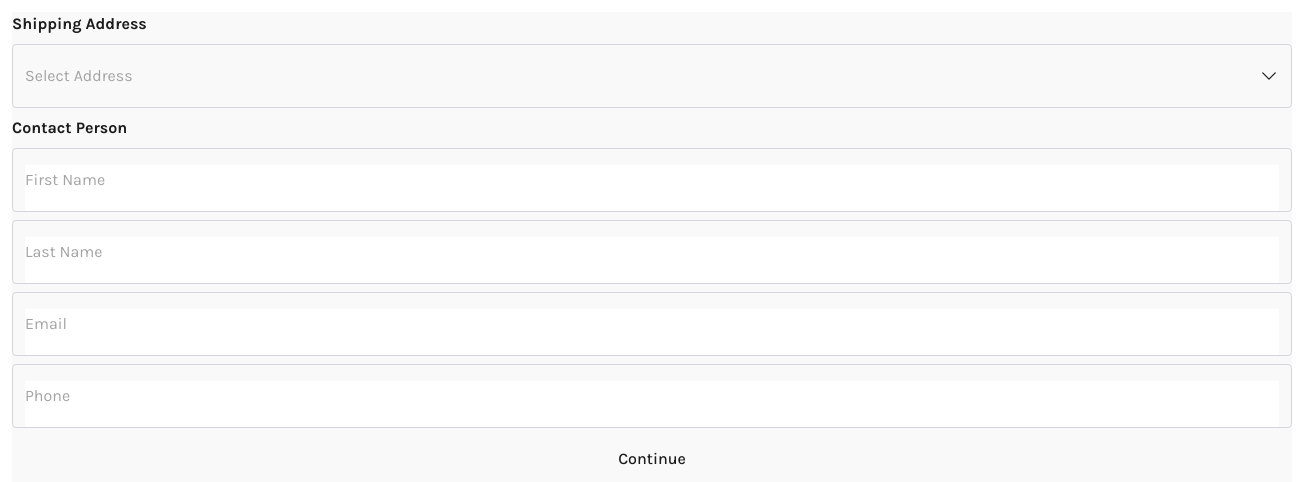
B2BAddressForm › should load organization addresses and display them in dropdown
// Click on dropdown to open it
What coordinates should you click on to do the following:
click the field with test id "address-form__select-address"
I would click on:
 (79, 76)
Its box is [25,66,1279,86].
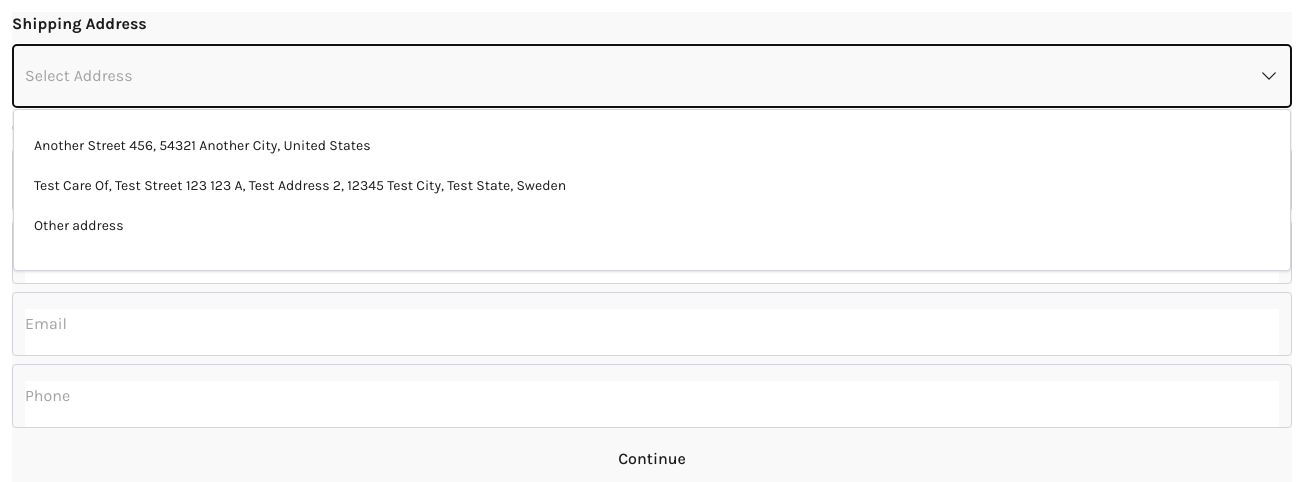
Expected: the text "Test Care Of, Test Street 123 123 A, Test Address 2, 12345 Test City, Test State, Sweden" is shown, [34,177,566,194]
Expected: the text "Another Street 456, 54321 Another City, United States" is shown, [26,132,378,160]
Expected: the text "Other address" is shown, [34,217,124,234]
